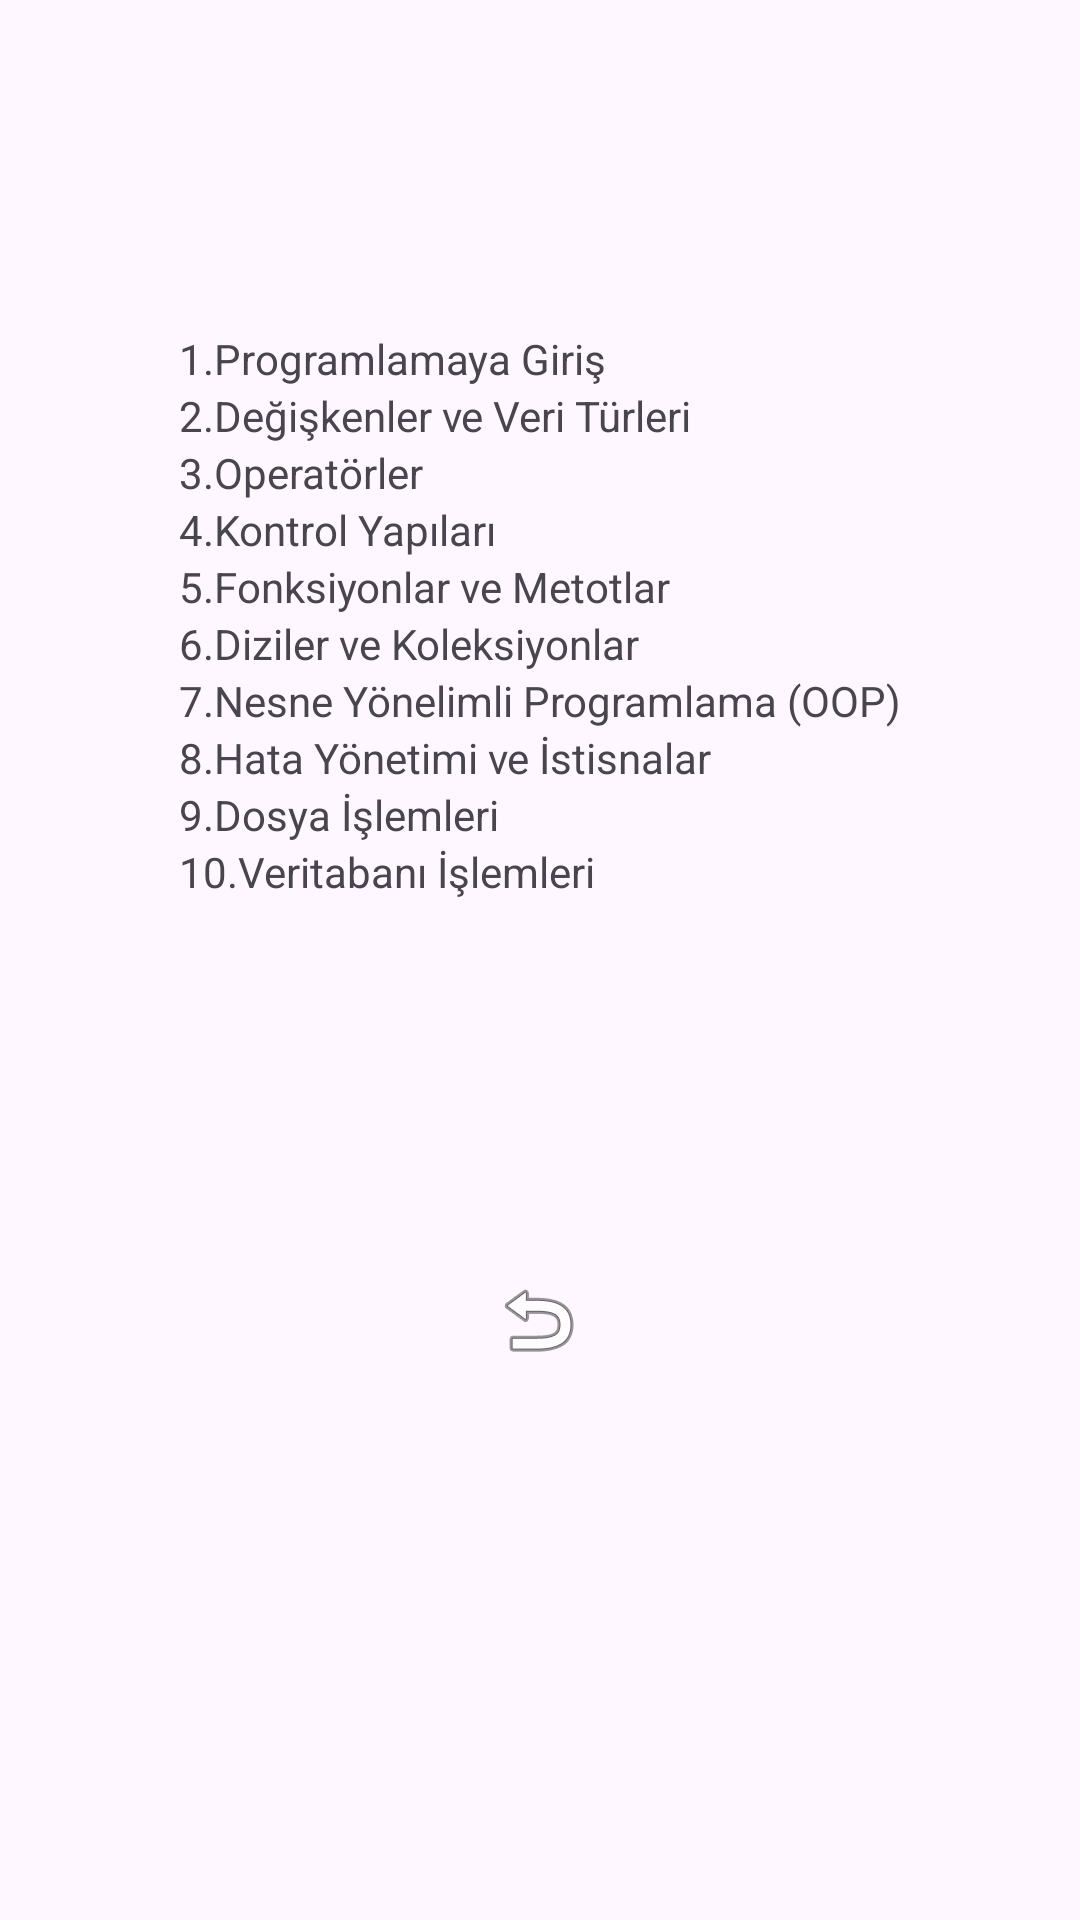

Where to tap for icons on this 1080 x 1920 app screen, as (x=x, y=y):
revert: (x=539, y=1320)
